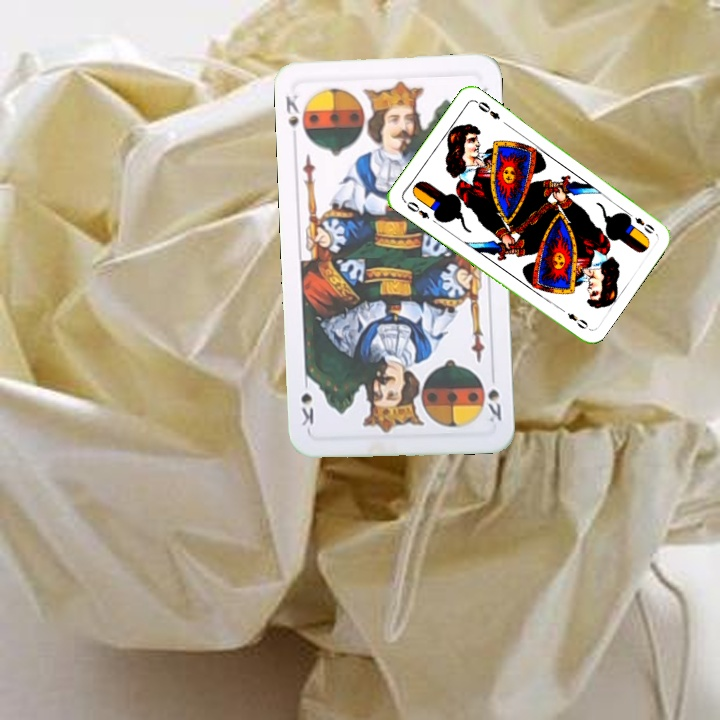EO: (622, 208, 657, 237), (400, 196, 432, 221)
SK: (483, 368, 504, 425), (281, 90, 303, 129)
